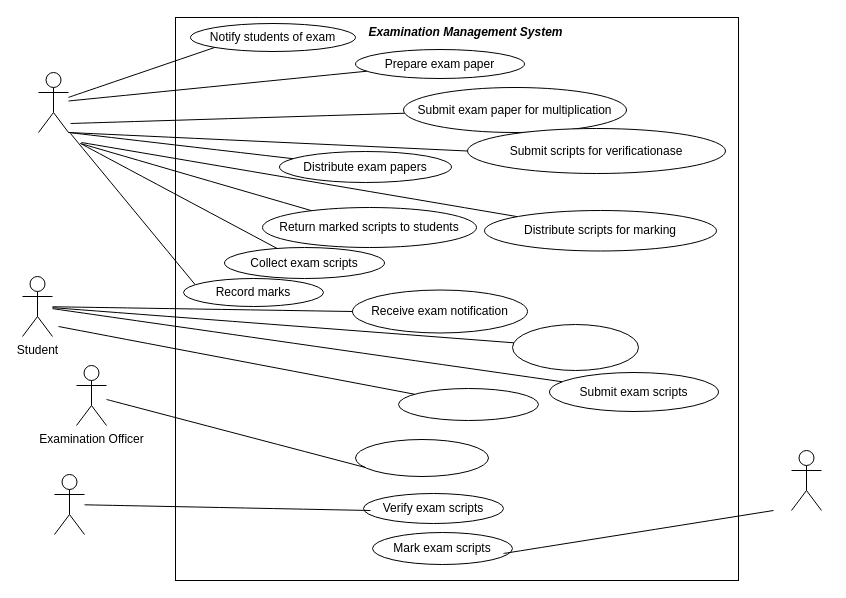
Image size: 846x598. Some labels were removed from this diagram. The box of each missing label's shape, as (x1, y1, x2, y2) in pixels:
Examination Unit: (54, 474, 84, 534)
Insctructor: (38, 72, 68, 132)
Lecturer: (790, 450, 822, 510)
Multiply exam papers: (354, 438, 488, 476)
Receive marked scripts: (398, 388, 538, 420)
Write exam: (512, 324, 638, 370)
